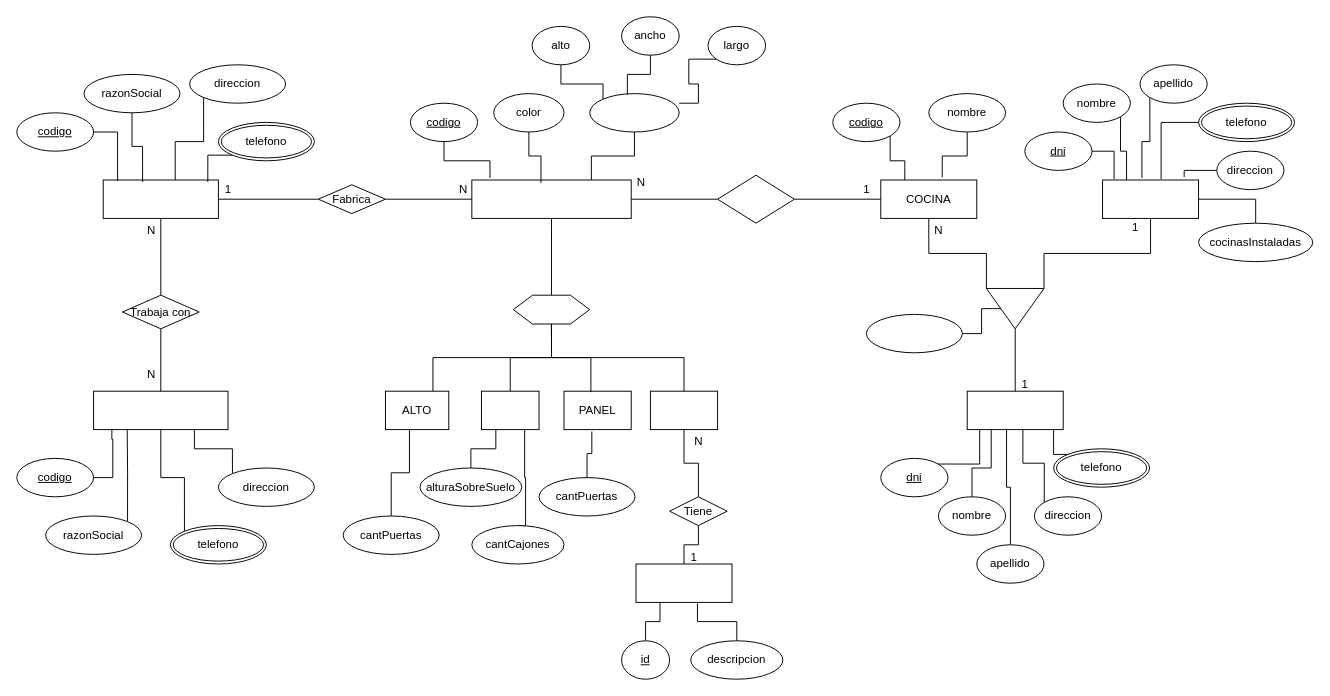
This 1330x696 diagram has some shape labels left out. The shapes that lost their labels are listed below. From the top down, each one's centre as x and y in pixels, then its label:
At point (634, 112): "dimensiones".
At point (160, 198): "FABRICANTE".
At point (551, 198): "MUEBLE DE COCINA".
At point (755, 198): "Forma parte de".
At point (1150, 198): "INSTALADOR".
At point (551, 309): "Categoria".
At point (913, 333): "nroMuebles".
At point (160, 410): "DISTRIBUIDOR".
At point (509, 410): "BAJO".
At point (683, 410): "MESADA".
At point (1014, 410): "CLIENTE".
At point (683, 582): "MATERIAL".
